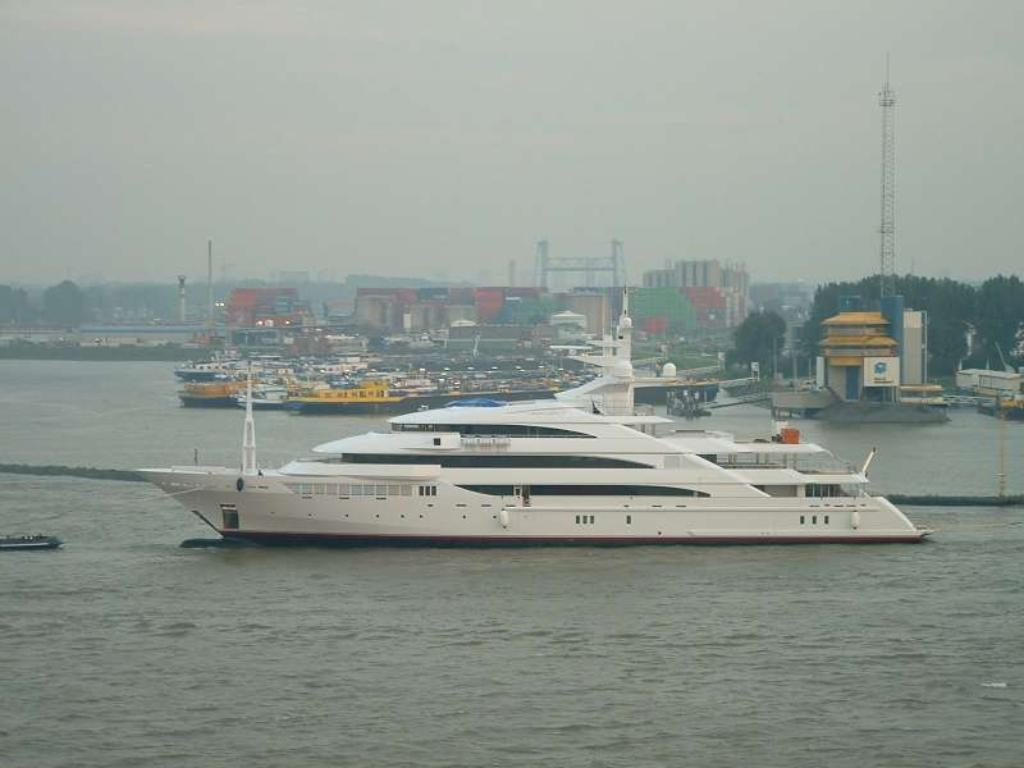PassengerShip: (125, 244, 925, 544)
